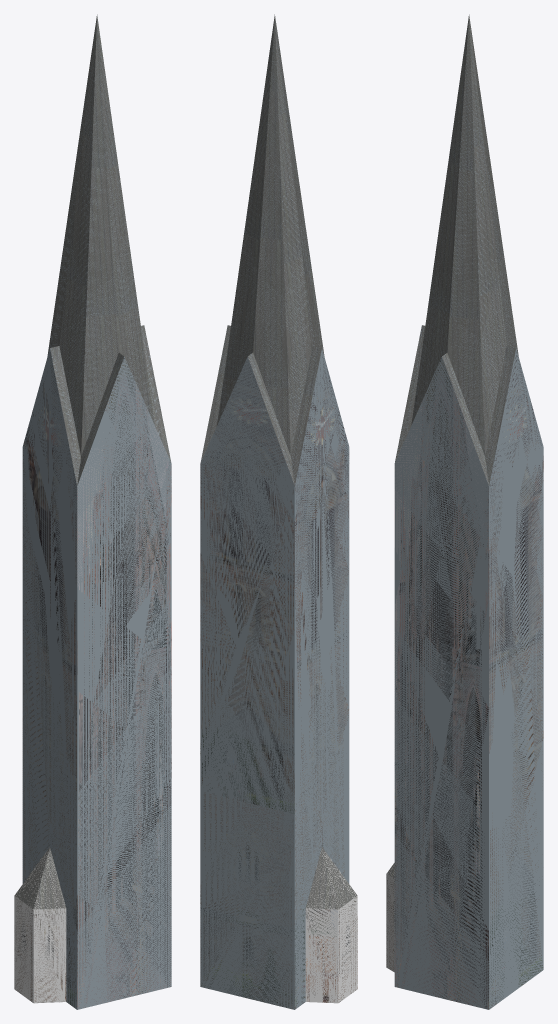
File: tourModerne.obj
3 renders of one model, left to right at view 1: azimuth 30°, elevation 25°; view 2: azimuth 150°, elevation 25°; view 3: azimuth 330°, elevation 25°, orthographic.
Visible parts, largest first — view 1: Mesh1 tourModerne1 Model; view 2: Mesh1 tourModerne1 Model; view 3: Mesh1 tourModerne1 Model.
Boxes of the visible parts, x1,y1,x2,y2 form: Mesh1 tourModerne1 Model: (14,14,171,1009); Mesh1 tourModerne1 Model: (200,14,357,1009); Mesh1 tourModerne1 Model: (386,14,543,1009).
Size of the model in its own units: 1.27 by 9.77 by 1.
